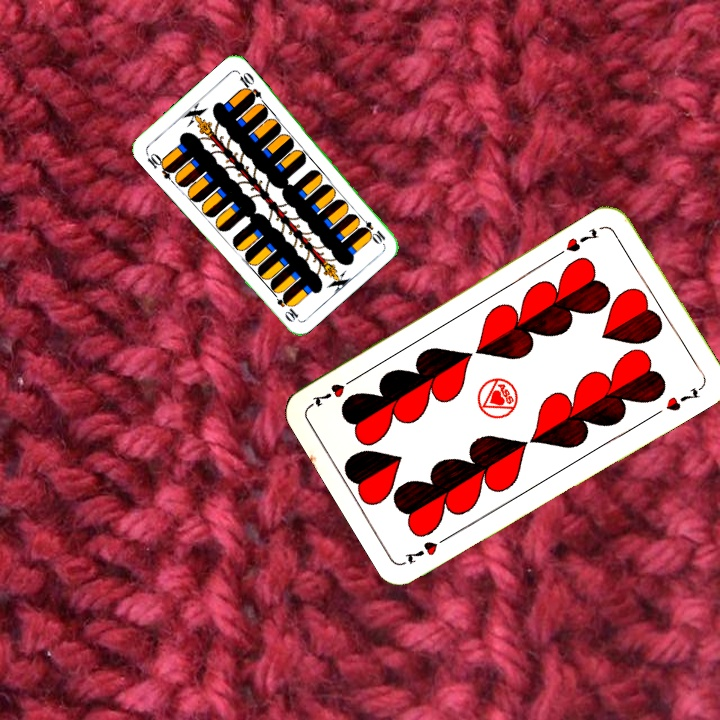E10: (142, 148, 177, 182), (354, 212, 388, 245)
H7: (400, 530, 454, 567), (561, 224, 601, 255)
